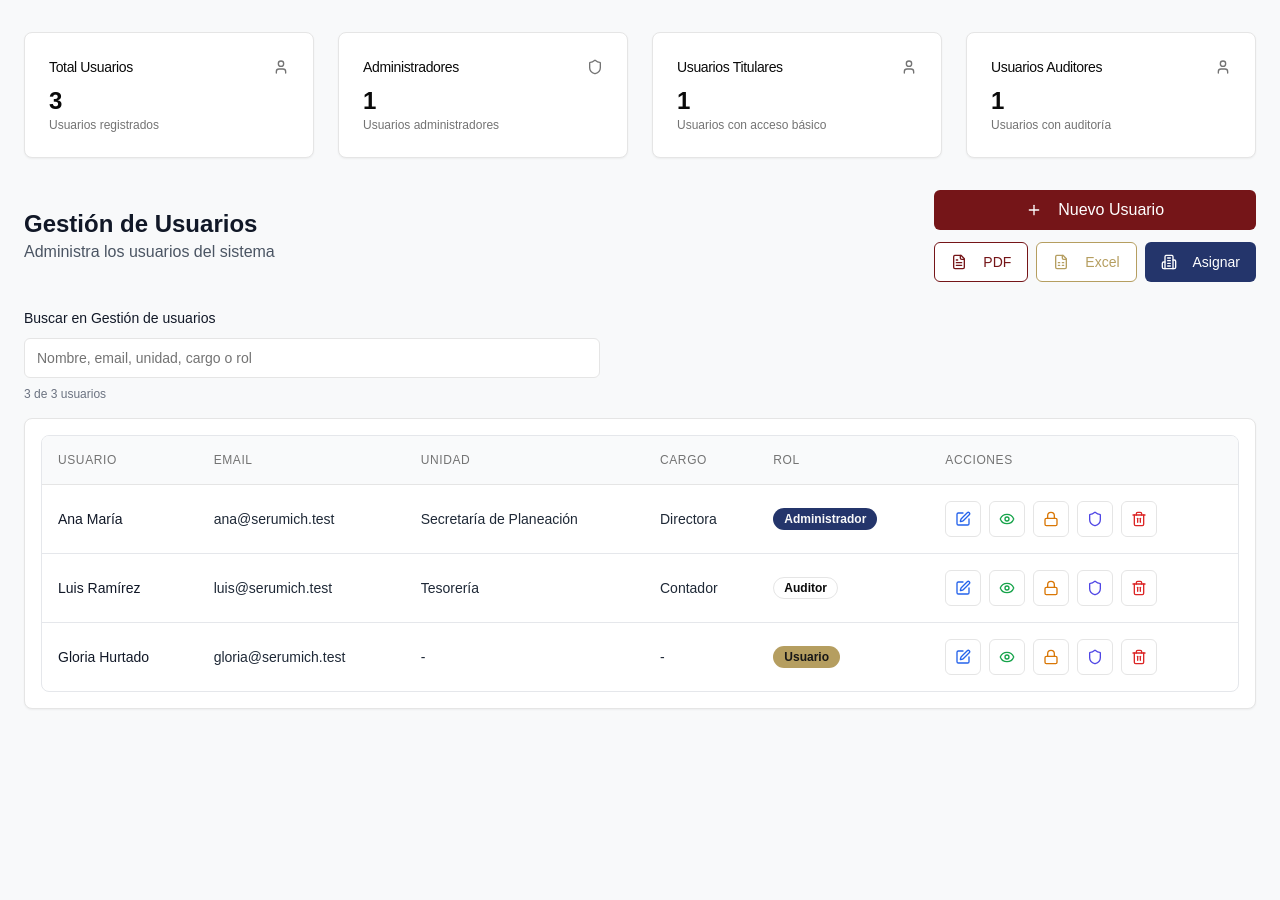
Test: busca  ANA   MARIA  en todas las columnas de datos
Expected: the text "Gloria Hurtado" is shown, [58,648,149,664]
Type " ANA   MARIA " into the search field labelled "Buscar en Gestión de usuarios".
click(312, 358); type(" ANA   MARIA ")  # box [24,338,600,378]
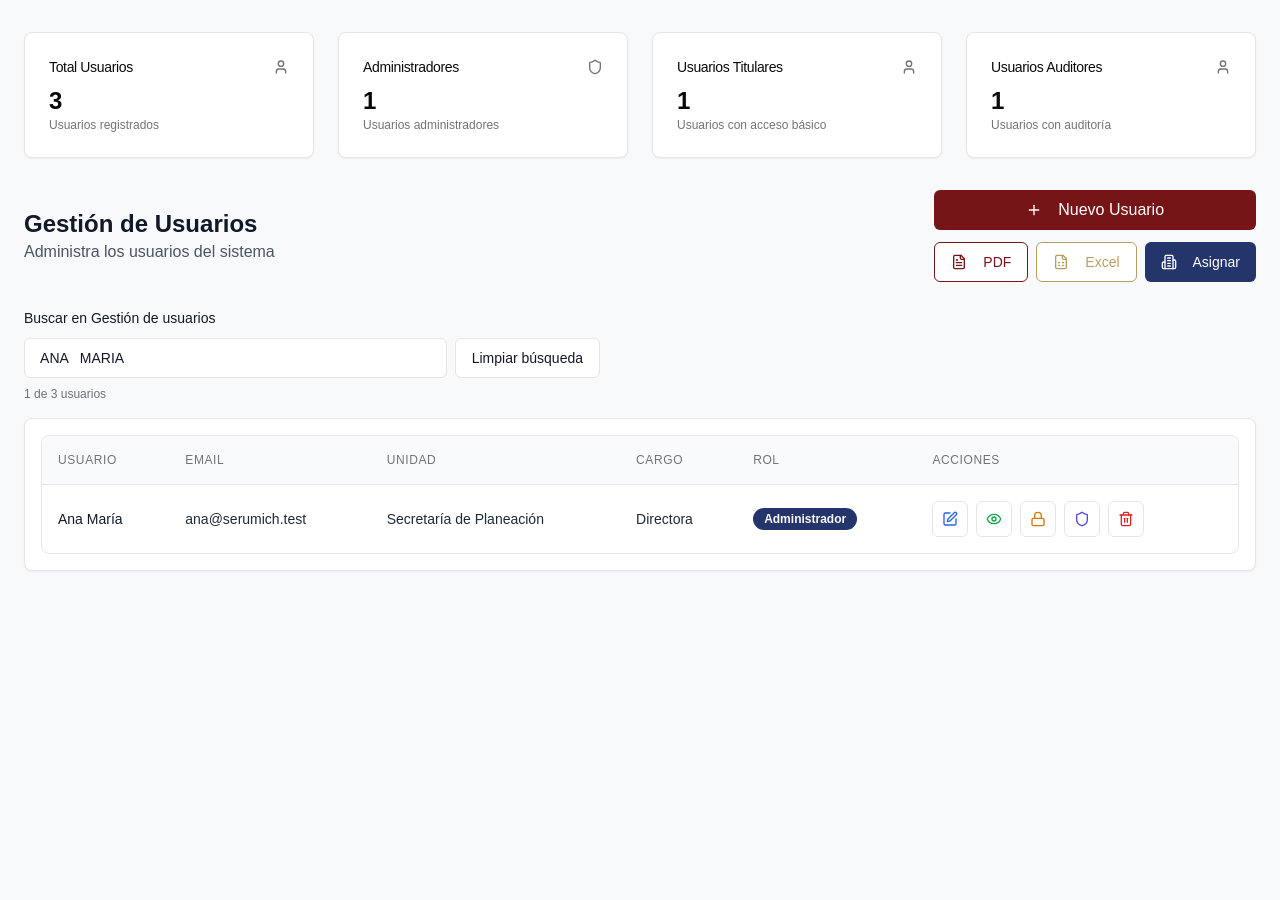
Expected: the text "Ana María" is shown, [58,510,123,526]
Result: the text "1 de 3 usuarios" is shown at [24,387,106,401]
